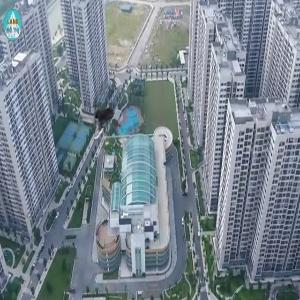drone: (74, 94, 129, 149)
